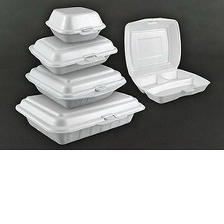foam_box: (120, 11, 215, 106), (10, 85, 147, 147), (20, 61, 130, 111), (27, 29, 120, 77), (41, 2, 108, 46)
